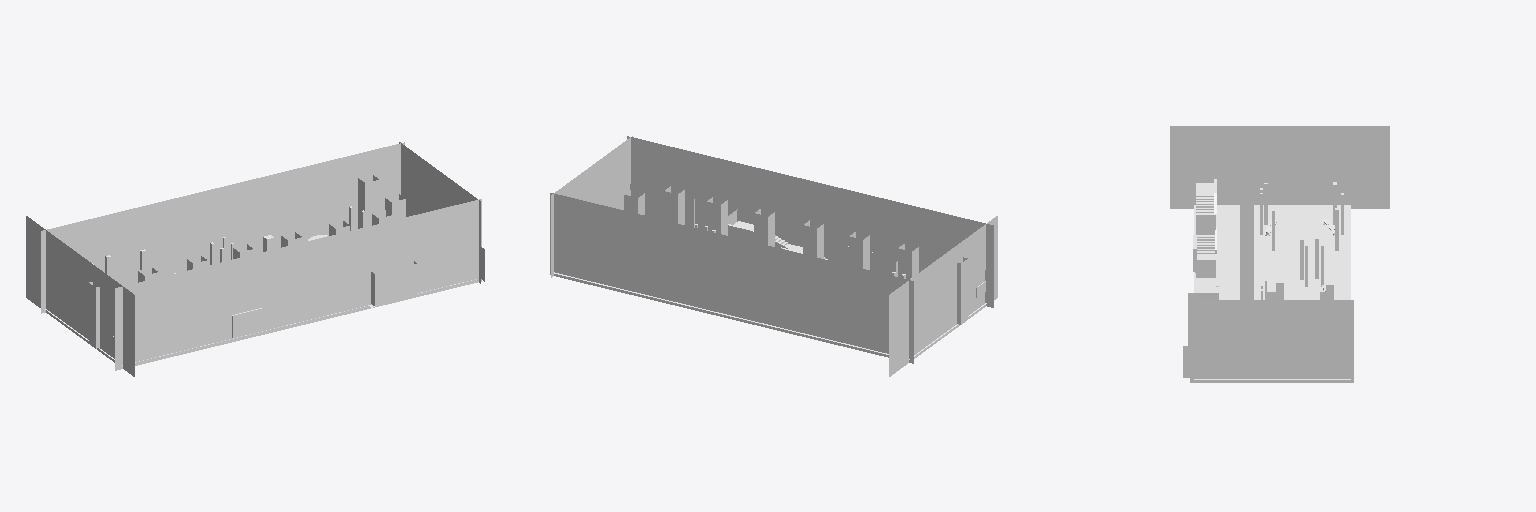
File: MundoFisicoCasa.obj
The picture shows the model from 3 angles: view 1: azimuth 30°, elevation 25°; view 2: azimuth 150°, elevation 25°; view 3: azimuth 270°, elevation 25°; orthographic projection.
Visible parts, largest first — view 1: pPlane8, pPlane4, pPlane1, pPlane2, escenario:pPlane25 escenario:polySurface1 group polySurface15, escenario:pPlane22 escenario:polySurface1 group polySurface12, escenario:pPlane19 escenario:polySurface1 group polySurface9; view 2: pPlane4, pPlane8, pPlane1, escenario:pPlane25 escenario:polySurface1 group polySurface15, pPlane2, escenario:pPlane13 escenario:polySurface1 group polySurface3, escenario:pPlane15 escenario:polySurface1 group polySurface5, escenario:pPlane16 escenario:polySurface1 group polySurface6, escenario:pPlane17 escenario:polySurface1 group polySurface7, escenario:pPlane14 escenario:polySurface1 group polySurface4, escenario:pPlane19 escenario:polySurface1 group polySurface9, escenario:pPlane18 escenario:polySurface1 group polySurface8; view 3: pPlane1, pPlane2, pPlane12, escenario:polySurface8 escenario:polySurface10 escenario:polySur, escenario:pPlane25 escenario:polySurface1 group polySurface15.
Part boxes in pixels (left/top/right/bottom): pPlane8: left=115, top=199, right=481, bottom=370; pPlane4: left=41, top=142, right=404, bottom=313; pPlane1: left=26, top=216, right=134, bottom=376; pPlane2: left=399, top=142, right=480, bottom=283; escenario:pPlane25 escenario:polySurface1 group polySurface15: left=232, top=247, right=484, bottom=337; escenario:pPlane22 escenario:polySurface1 group polySurface12: left=358, top=175, right=378, bottom=228; escenario:pPlane19 escenario:polySurface1 group polySurface9: left=89, top=282, right=99, bottom=348; pPlane4: left=550, top=193, right=913, bottom=363; pPlane8: left=627, top=136, right=993, bottom=307; pPlane1: left=889, top=216, right=997, bottom=376; escenario:pPlane25 escenario:polySurface1 group polySurface15: left=630, top=184, right=989, bottom=303; pPlane2: left=551, top=136, right=632, bottom=277; escenario:pPlane13 escenario:polySurface1 group polySurface3: left=664, top=186, right=684, bottom=224; escenario:pPlane15 escenario:polySurface1 group polySurface5: left=754, top=208, right=774, bottom=246; escenario:pPlane16 escenario:polySurface1 group polySurface6: left=803, top=220, right=823, bottom=258; escenario:pPlane17 escenario:polySurface1 group polySurface7: left=849, top=231, right=869, bottom=269; escenario:pPlane14 escenario:polySurface1 group polySurface4: left=707, top=196, right=727, bottom=235; escenario:pPlane19 escenario:polySurface1 group polySurface9: left=957, top=257, right=967, bottom=324; escenario:pPlane18 escenario:polySurface1 group polySurface8: left=898, top=243, right=918, bottom=279; pPlane1: left=1170, top=126, right=1389, bottom=208; pPlane2: left=1190, top=300, right=1353, bottom=382; pPlane12: left=1194, top=205, right=1350, bottom=379; escenario:polySurface8 escenario:polySurface10 escenario:polySur: left=1195, top=183, right=1215, bottom=292; escenario:pPlane25 escenario:polySurface1 group polySurface15: left=1183, top=235, right=1218, bottom=377.
Size of the model in its own units: 15.22 by 3.48 by 7.86.